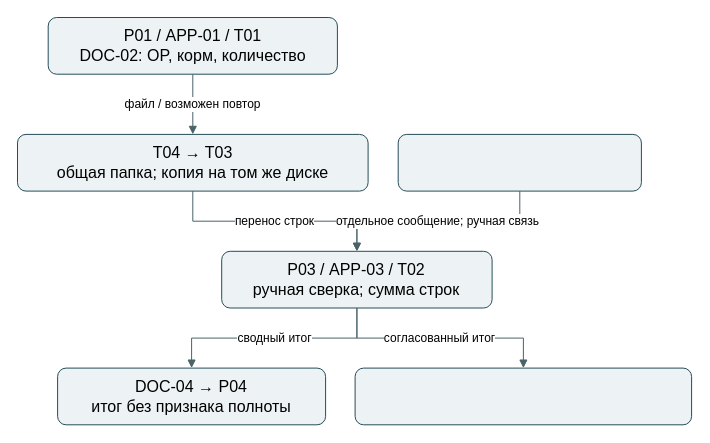
This 710x443 diagram has some shape labels left out. Each missing label, with the box of its shape:
APP-04: внешний контур внутреннее устройство неизвестно: (354, 367, 692, 425)
Р02 / APP-02 DOC-03: подтверждение: (397, 133, 641, 191)
